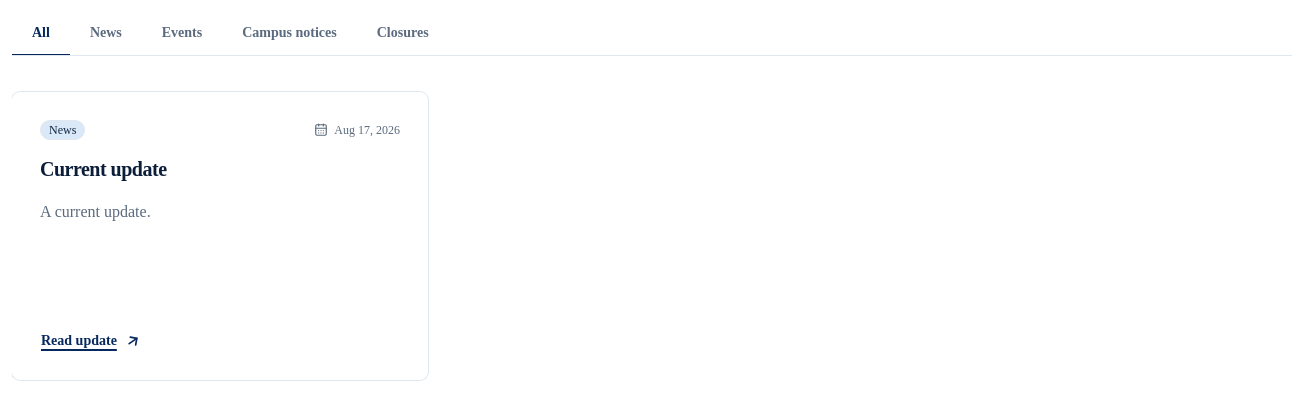
News & Events Tabs › renders the default tabs and filters the visible panel
Click the tab "Closures": click(403, 34) [357,12,449,56]
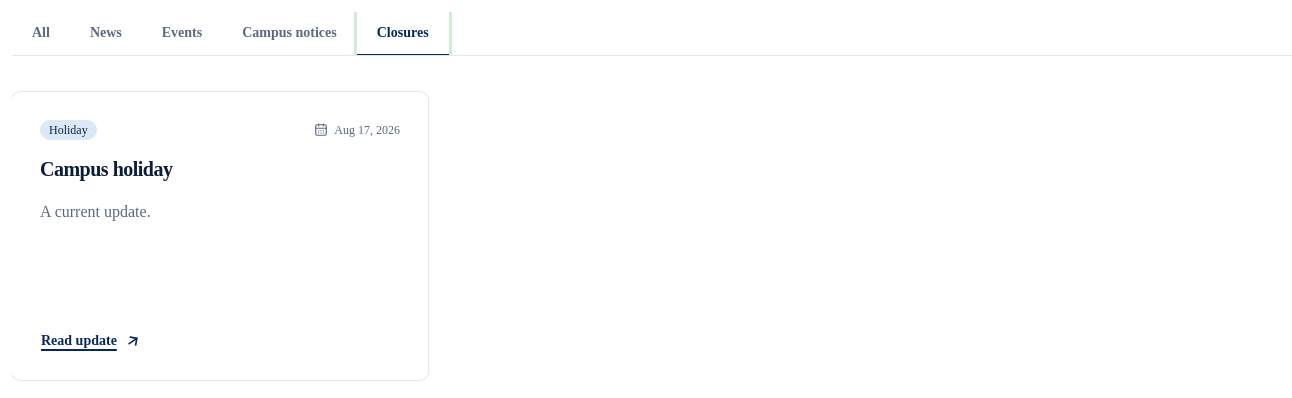
Check: the panel shows "Campus holiday", box [40,158,172,180]
